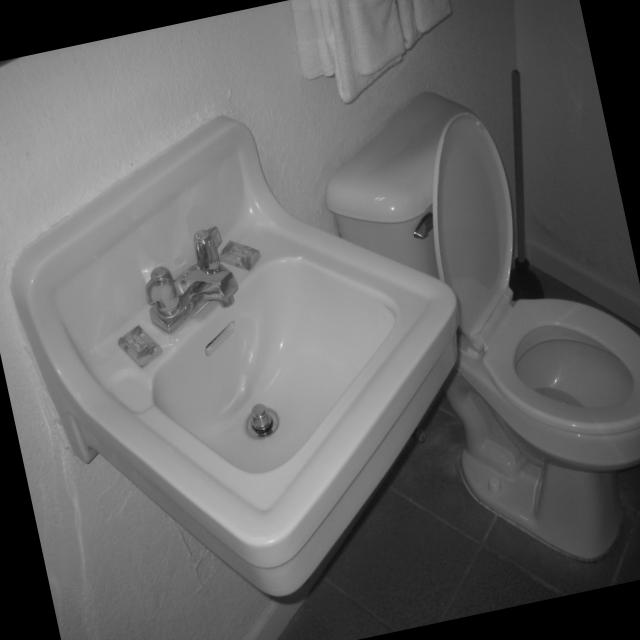floor -X: (278, 266, 640, 640)
sink basin: (4, 108, 459, 599)
soap bottle: (116, 323, 163, 367), (218, 240, 260, 270)
toilet bowl: (323, 90, 640, 567)
towels: (288, 0, 455, 105)
wall clock: (0, 0, 527, 640), (516, 0, 640, 328)
